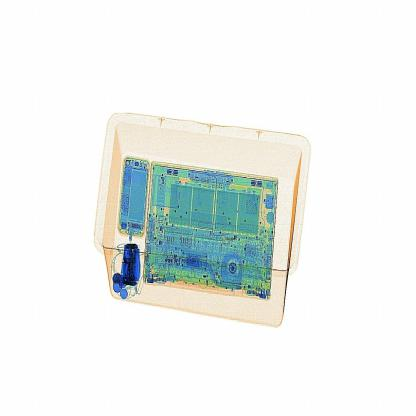scissors: (114, 232, 149, 292)
